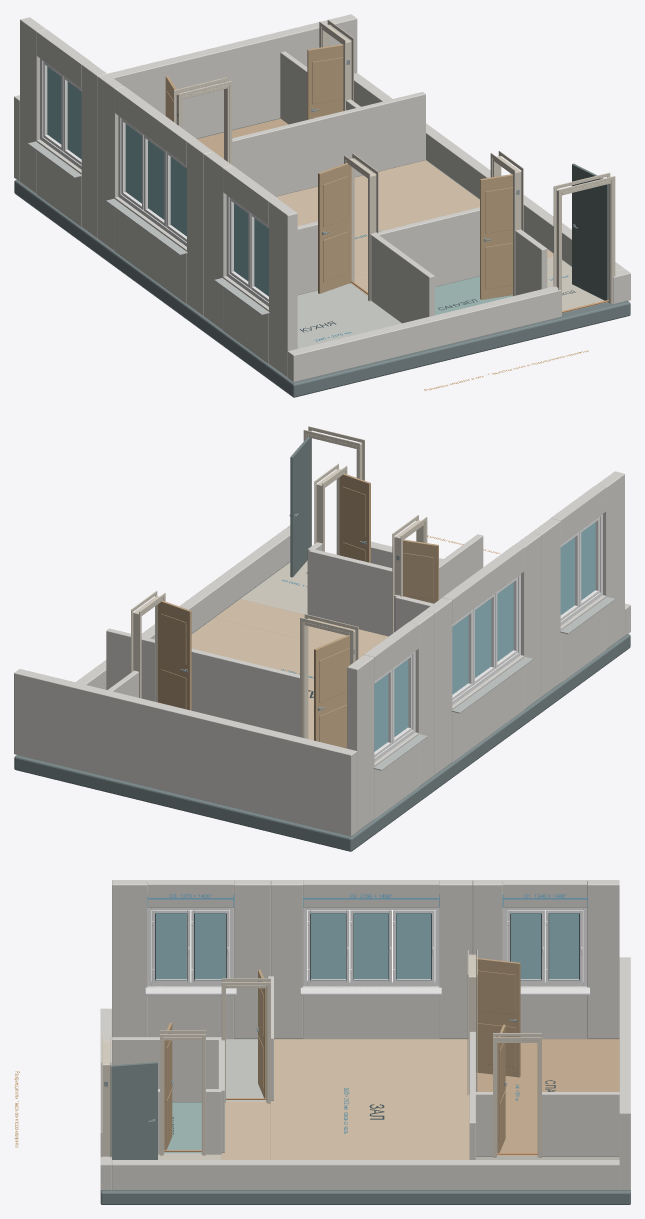
Rendered from cutaway.glb.
The picture shows the model from 3 angles, top to bottom: view 1: azimuth 30°, elevation 25°; view 2: azimuth 150°, elevation 25°; view 3: azimuth 270°, elevation 25°; orthographic projection. The views are drawn at different scales.
Parts seen in each view (by area): view 1: Наружная стена сверху.001, Спальня — зал · B.001, Основание.001, Наружная стена снизу · A.001, Зал · основной.001, Санузел — зал.001, Фасад слева · кухня · A.001, Наружная стена справа.001, Д1 · полотно, Кухня.001, Кухня — санузел.001, Фасад слева · кухня · B.001 (+34 smaller); view 2: Наружная стена сверху.001, Основание.001, Спальня — зал · B.001, Санузел — зал.001, Наружная стена справа.001, Зал · основной.001, Фасад слева · спальня · B.001, Фасад слева · зал · подоконная часть.001, Фасад слева · кухня · A.001, Фасад слева · кухня · B.001, Фасад слева · зал · A.001, Фасад слева · зал · B.001 (+31 smaller); view 3: Зал · основной.001, Наружная стена справа.001, Основание.001, Спальня.001, Фасад слева · зал · подоконная часть.001, Фасад слева · кухня · A.001, Фасад слева · спальня · B.001, Спальня — кладовая · B.001, Фасад слева · зал · B.001, Фасад слева · зал · A.001, Фасад слева · кухня · B.001, Д1 · полотно (+41 smaller).
Boxes of the visible parts, bbox=[...] form: Наружная стена сверху.001: bbox=[14, 14, 357, 181]; Спальня — зал · B.001: bbox=[232, 92, 425, 196]; Основание.001: bbox=[14, 118, 630, 397]; Наружная стена снизу · A.001: bbox=[287, 286, 561, 382]; Зал · основной.001: bbox=[276, 160, 479, 279]; Санузел — зал.001: bbox=[373, 207, 479, 286]; Фасад слева · кухня · A.001: bbox=[269, 199, 297, 377]; Наружная стена справа.001: bbox=[354, 73, 624, 271]; Д1 · полотно: bbox=[572, 163, 608, 300]; Кухня.001: bbox=[297, 283, 401, 348]; Кухня — санузел.001: bbox=[371, 234, 434, 323]; Фасад слева · кухня · B.001: bbox=[204, 152, 232, 330]; Наружная стена сверху.001: bbox=[14, 669, 357, 836]; Основание.001: bbox=[14, 562, 630, 851]; Спальня — зал · B.001: bbox=[106, 628, 299, 736]; Санузел — зал.001: bbox=[309, 548, 392, 636]; Наружная стена справа.001: bbox=[76, 527, 290, 689]; Зал · основной.001: bbox=[191, 618, 363, 740]; Фасад слева · спальня · B.001: bbox=[347, 655, 374, 831]; Фасад слева · зал · подоконная часть.001: bbox=[452, 655, 524, 762]; Фасад слева · кухня · A.001: bbox=[597, 471, 624, 649]; Фасад слева · кухня · B.001: bbox=[531, 518, 560, 697]; Фасад слева · зал · A.001: bbox=[515, 532, 541, 709]; Фасад слева · зал · B.001: bbox=[425, 597, 452, 774]; Зал · основной.001: bbox=[271, 1039, 469, 1159]; Наружная стена справа.001: bbox=[112, 1160, 619, 1190]; Основание.001: bbox=[100, 1038, 630, 1204]; Спальня.001: bbox=[476, 1039, 619, 1155]; Фасад слева · зал · подоконная часть.001: bbox=[303, 986, 439, 1038]; Фасад слева · кухня · A.001: bbox=[112, 880, 147, 1036]; Фасад слева · спальня · B.001: bbox=[587, 880, 619, 1038]; Спальня — кладовая · B.001: bbox=[542, 1092, 619, 1156]; Фасад слева · зал · B.001: bbox=[439, 880, 472, 1038]; Фасад слева · зал · A.001: bbox=[271, 880, 302, 1038]; Фасад слева · кухня · B.001: bbox=[234, 880, 270, 1038]; Д1 · полотно: bbox=[110, 1062, 157, 1159].
Size of the model in its own units: 6 by 2.97 by 9.78.
